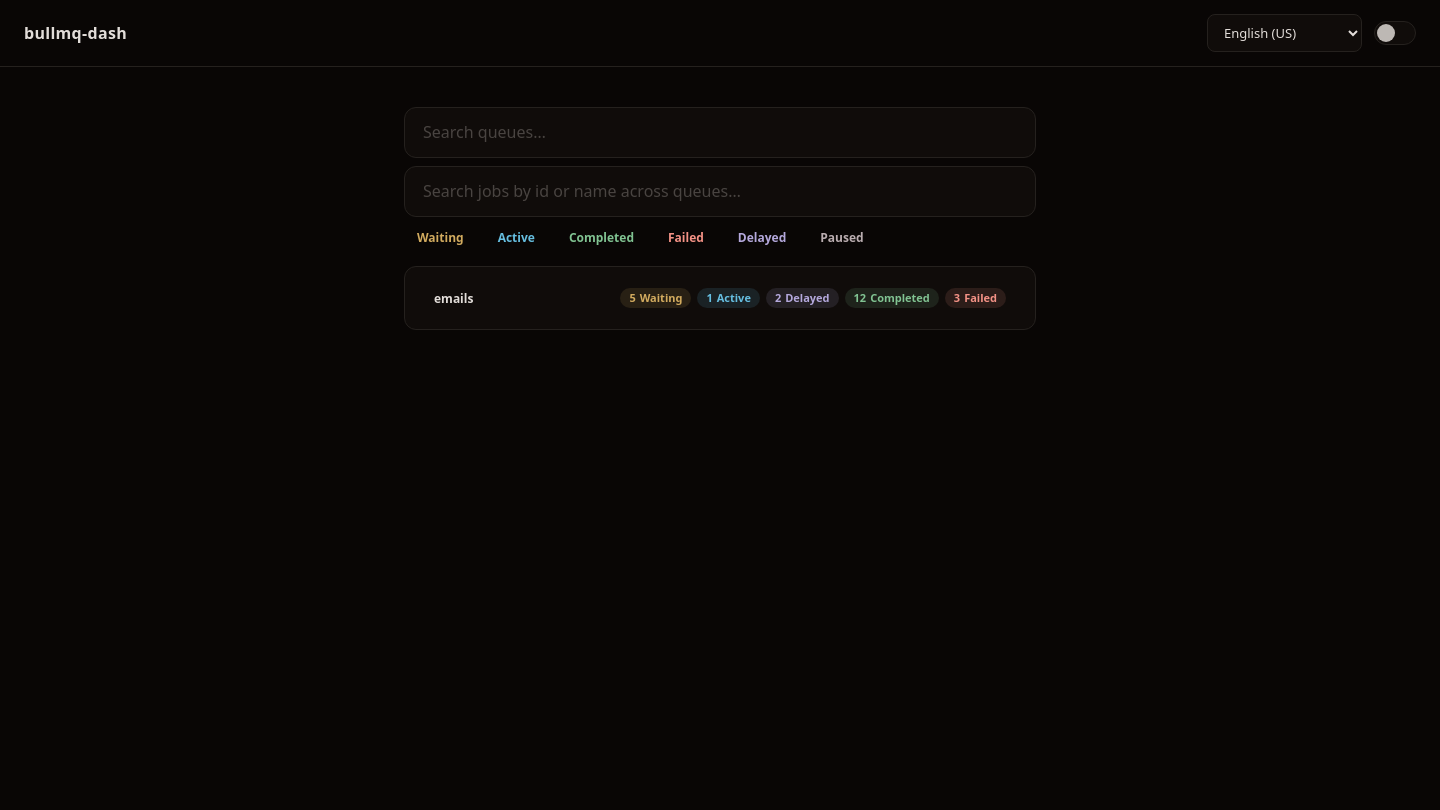
Test case: App shell › opens the workers and Redis views through the tab strip
Click the button "emails 5 Waiting 1 Active 2 Delayed 12 Completed 3 Failed": [720, 298] box [421, 279, 1019, 318]
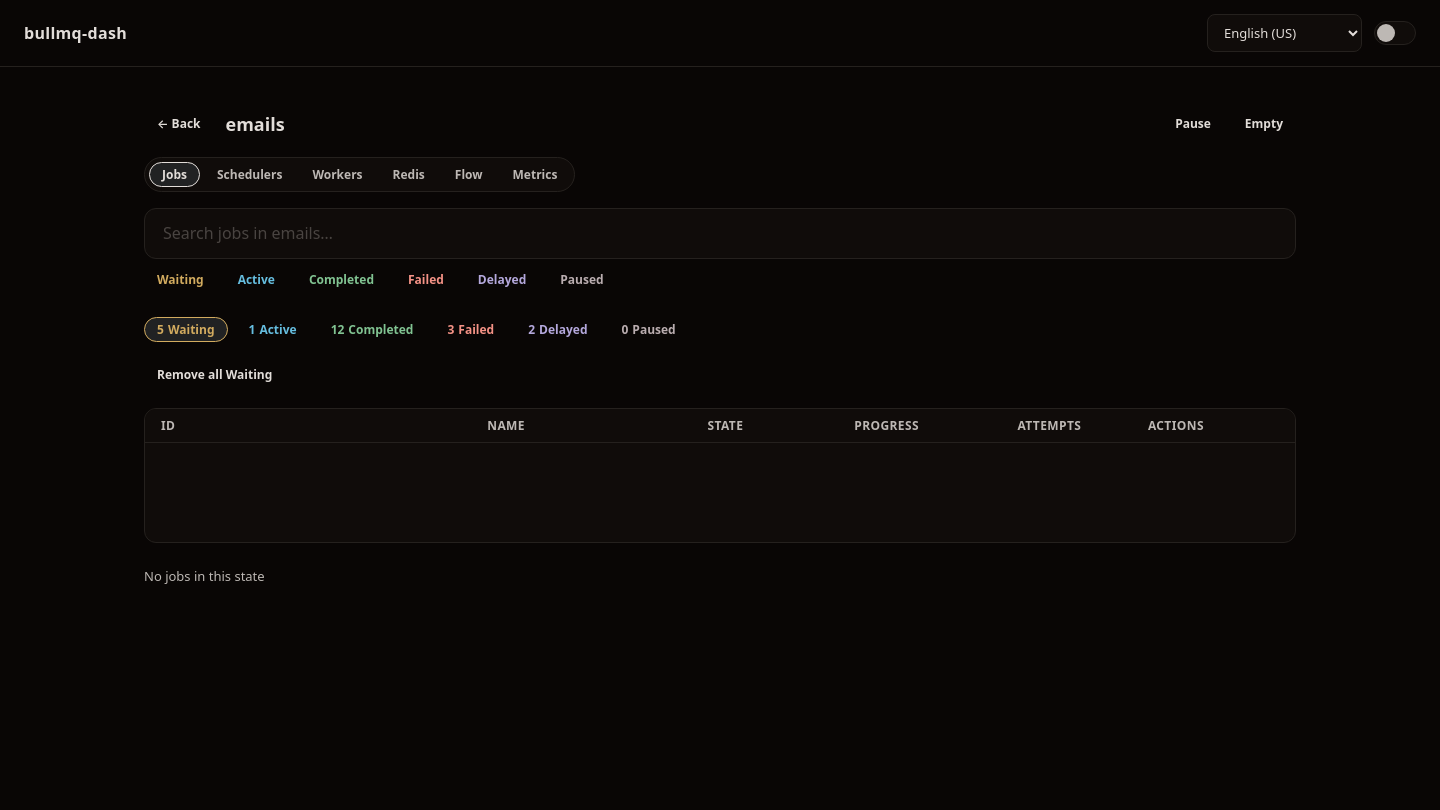
Click the button with aria-label "Open Workers view": [338, 174] box [299, 162, 376, 187]
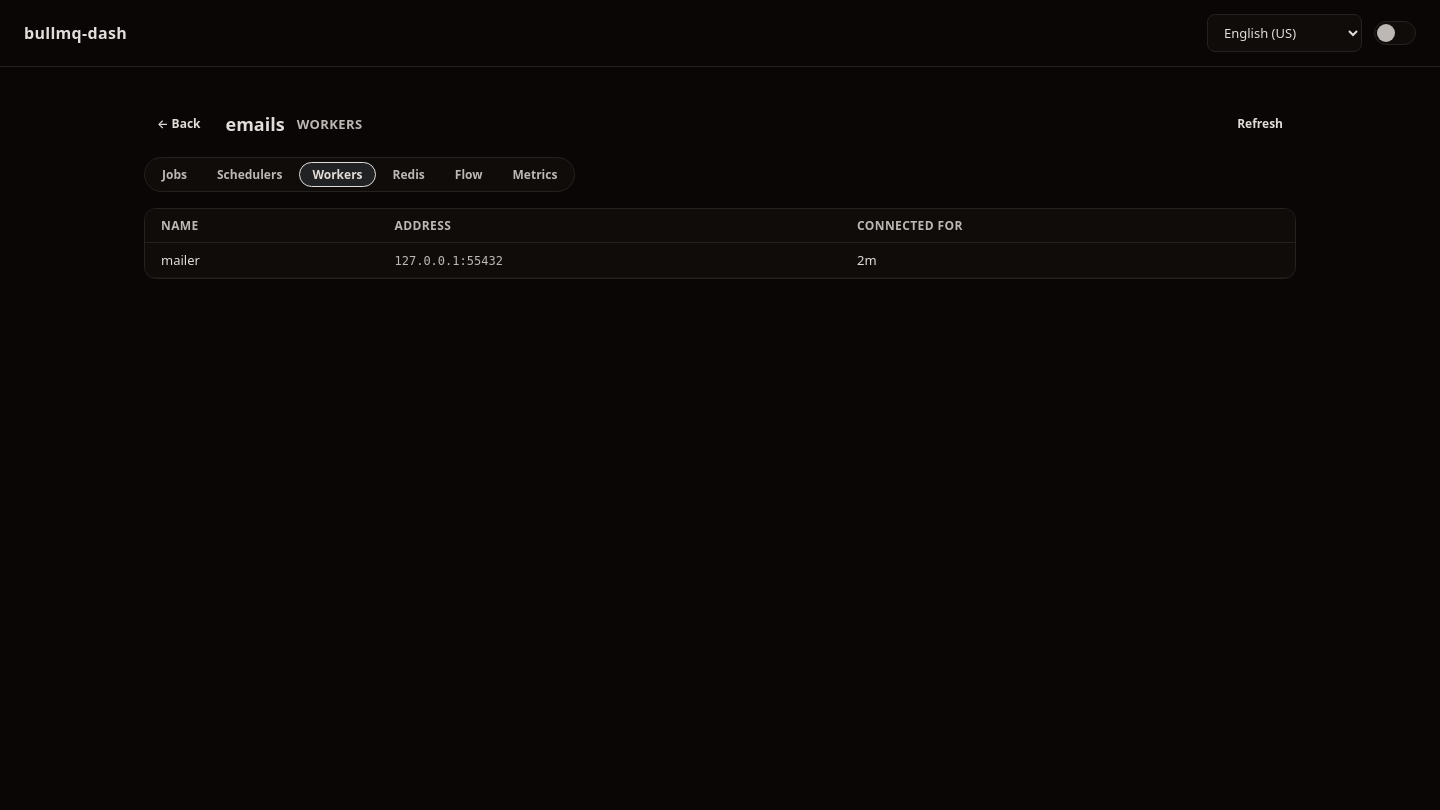
Expected: the text "mailer" is shown, [145, 243, 378, 278]
Click the button with aria-label "Open Redis view": [409, 174] box [380, 162, 438, 187]
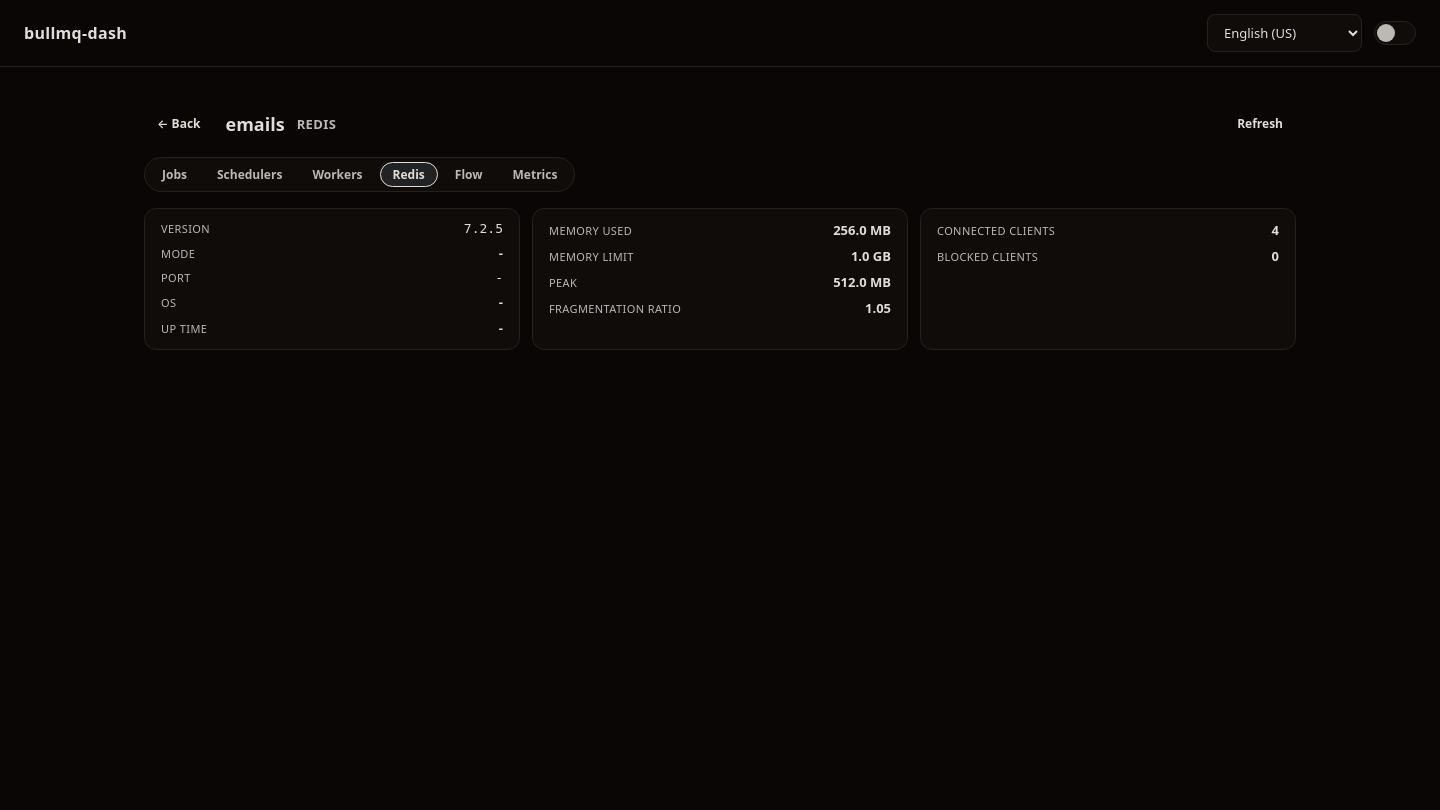
Expected: the text "7.2.5" is shown, [464, 221, 503, 236]
Expected: the text "256.0 MB" is shown, [833, 221, 891, 239]
